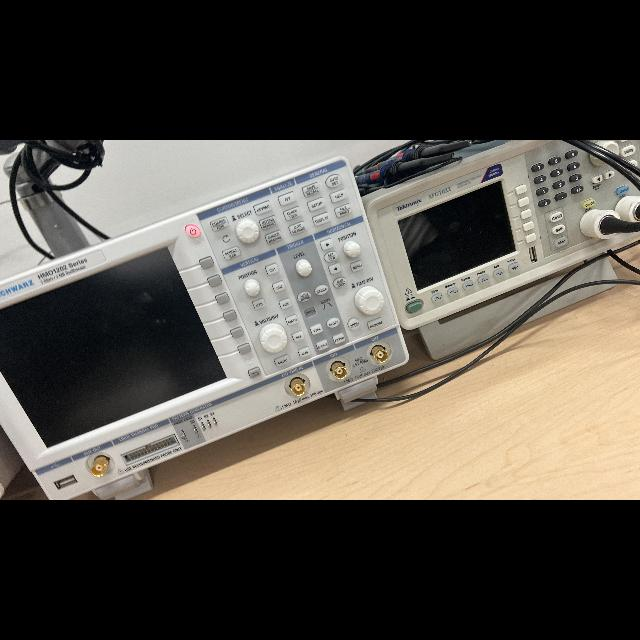Digital-Oscilloscope: (0, 149, 408, 499)
